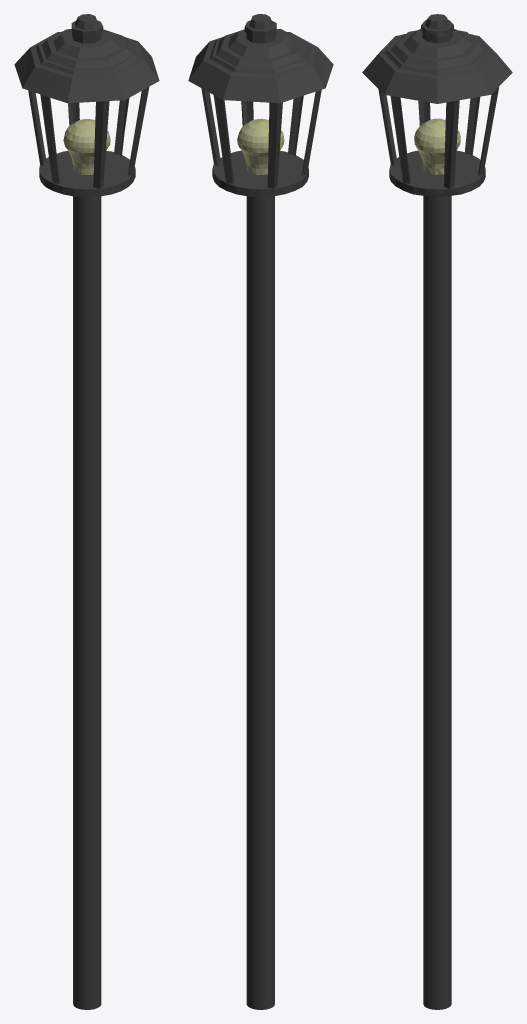
File: StreetFurniture_StreetLight_05.fbx
3 views of the same model, side by side, from view 1: azimuth 30°, elevation 25°; view 2: azimuth 150°, elevation 25°; view 3: azimuth 270°, elevation 25° (orthographic).
Parts seen in each view (by area): view 1: Prop_StreetLight_05_Mesh_LOD0; view 2: Prop_StreetLight_05_Mesh_LOD0; view 3: Prop_StreetLight_05_Mesh_LOD0.
Part boxes in pixels (x1=…): Prop_StreetLight_05_Mesh_LOD0: x1=14, y1=14, x2=159, y2=1009; Prop_StreetLight_05_Mesh_LOD0: x1=188, y1=14, x2=333, y2=1009; Prop_StreetLight_05_Mesh_LOD0: x1=362, y1=14, x2=512, y2=1009.
Size of what is drawn, in the model's own units: 57.23 by 416 by 57.61.
